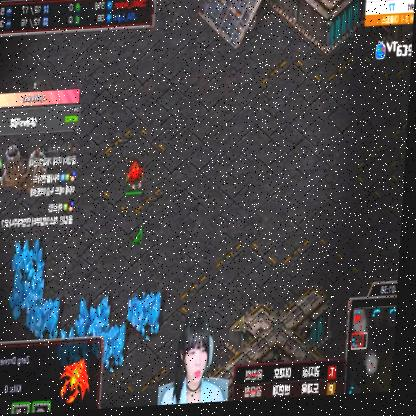streamer: (161, 314, 241, 407)
